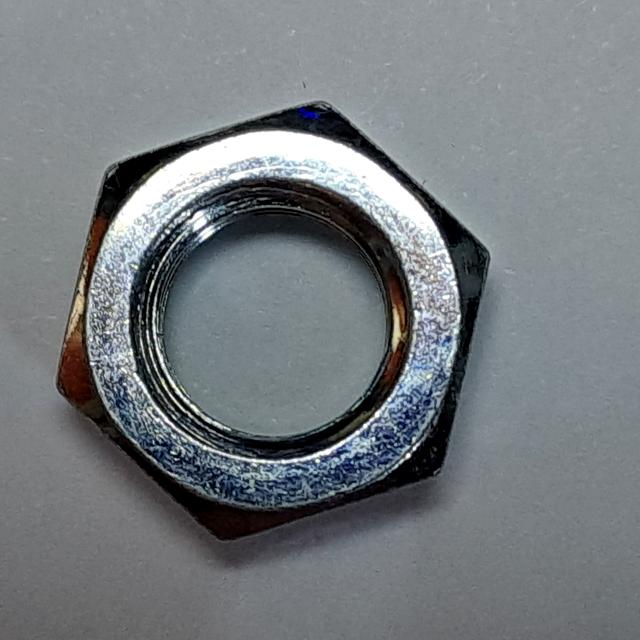Excellent: (44, 85, 516, 561)
